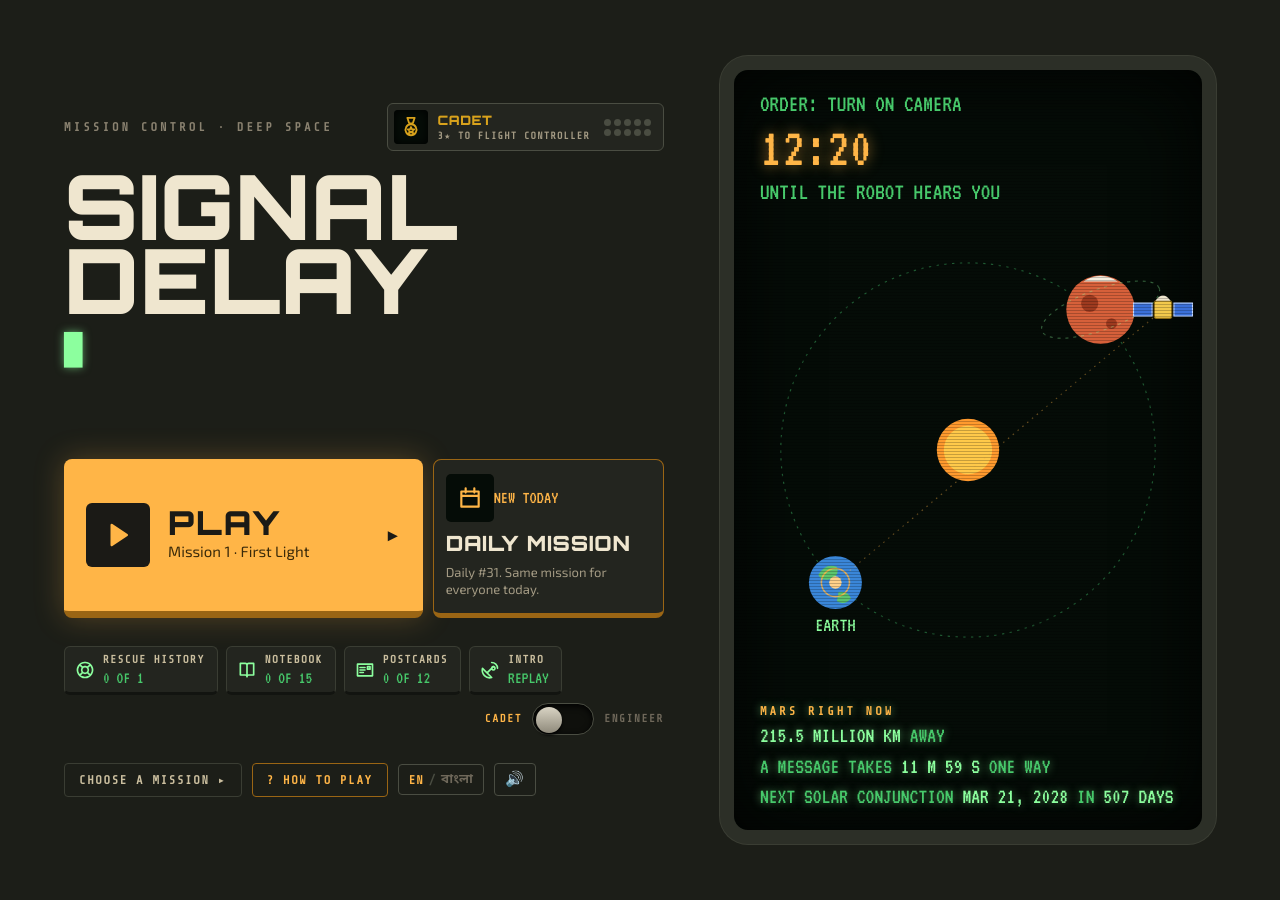
Scenario: Level map › Cadet mode opens on Home; the mission map shows only the first Moon level open
The image size is (1280, 900).
Click the button "CHOOSE A MISSION ▸": (153, 780) [64,763,242,797]
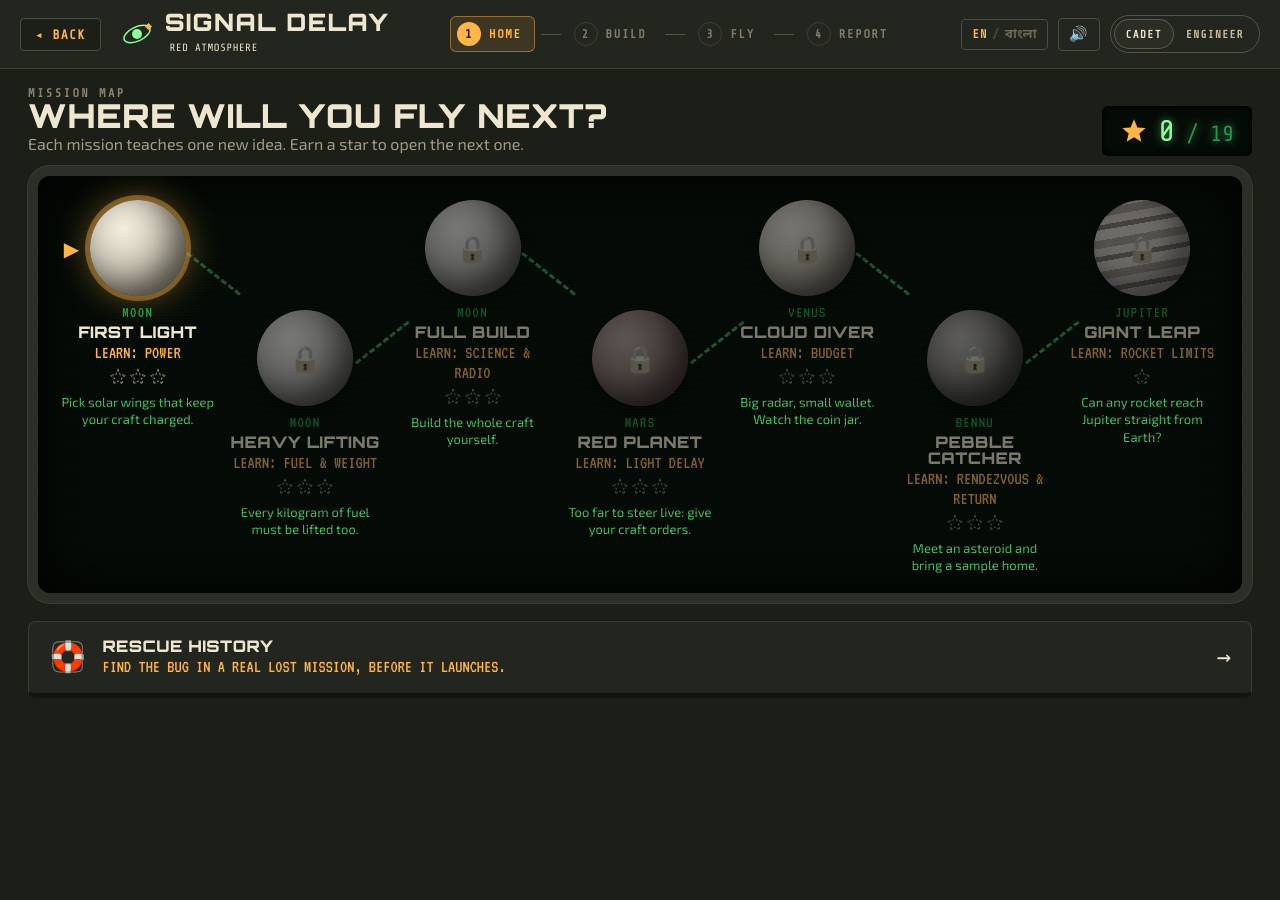
Now the heading "Where will you fly next?" is shown, box [28,99,607,132]
Now the button "▶ Moon First Light Learn: Power" is enabled, box [78,200,197,386]
Now the button "🔒 Moon Heavy Lifting Learn: Fuel & weight" is disabled, box [230,310,380,496]
